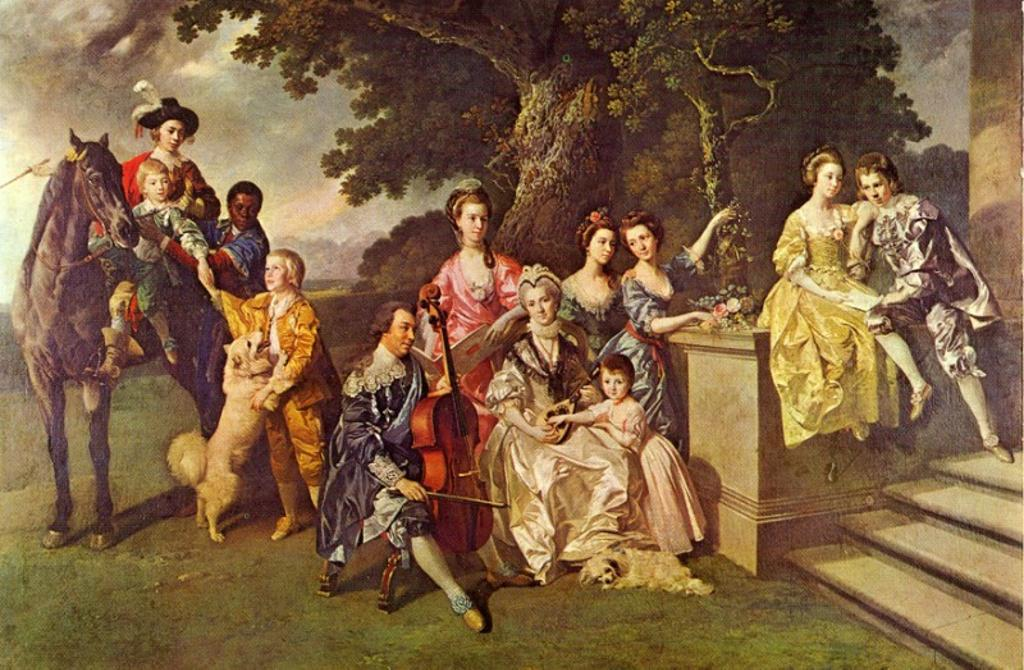face: (388, 318, 416, 356), (860, 176, 891, 208), (461, 207, 489, 242), (816, 165, 845, 198), (230, 200, 259, 230), (527, 291, 552, 324), (590, 233, 615, 264), (629, 231, 654, 260), (161, 122, 185, 151), (264, 261, 287, 289), (148, 174, 172, 200), (605, 376, 629, 400)
